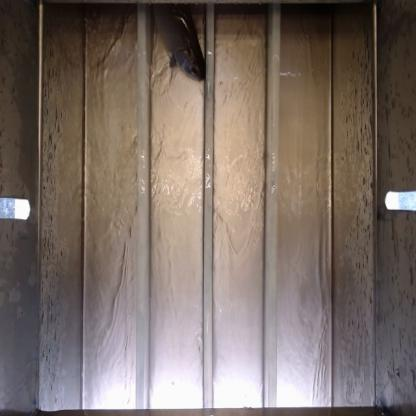pezw: (150, 3, 206, 82)
